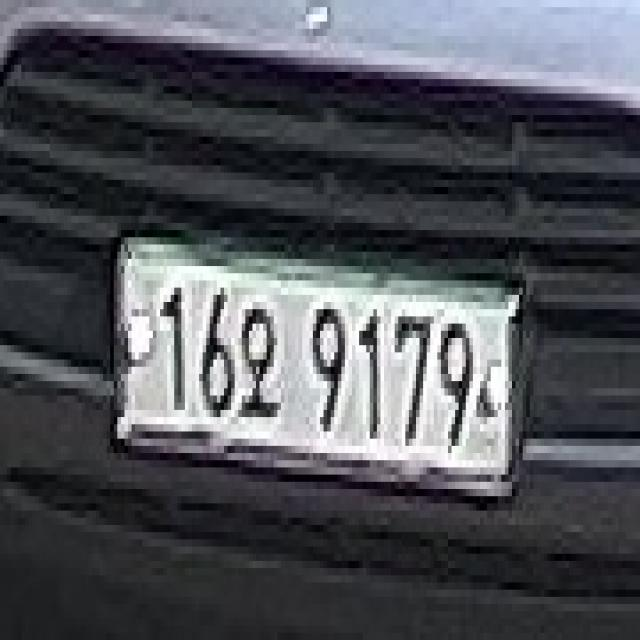1: (352, 302, 391, 453), (153, 273, 192, 417)
6: (196, 280, 238, 424)
7: (394, 316, 434, 453)
9: (434, 316, 480, 461), (306, 287, 348, 438)
license_plate: (103, 230, 537, 525)
o: (238, 295, 281, 431)
